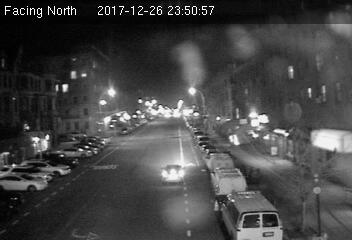car: (161, 163, 186, 185)
truck: (218, 190, 283, 240), (208, 168, 248, 195)
